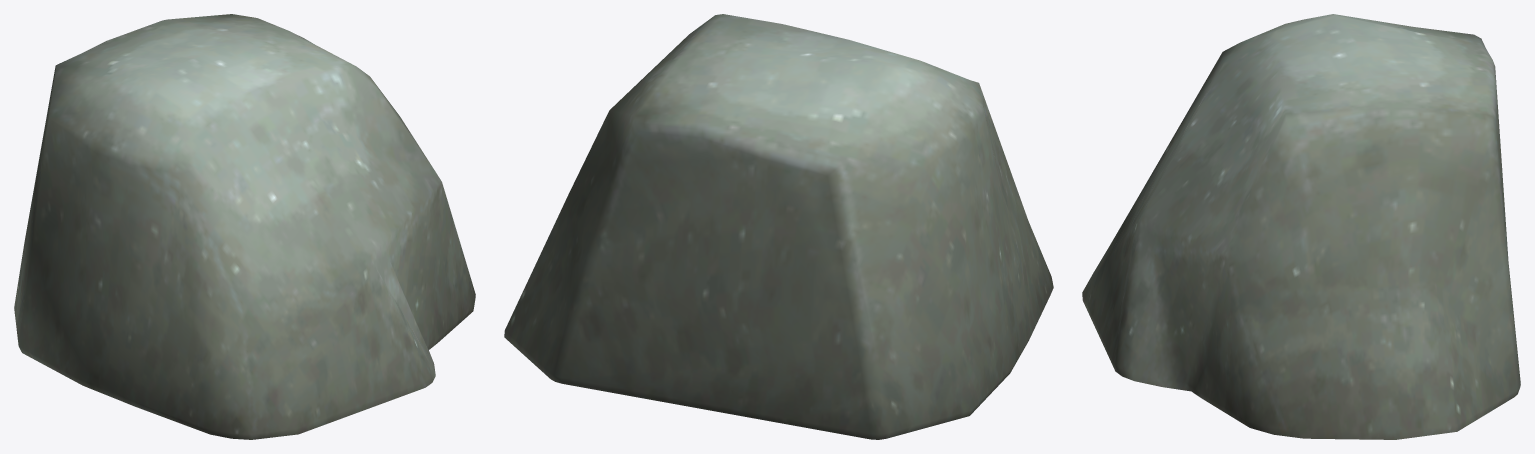
The model's file is stoneA.glb.
3 views of the same model, side by side, from view 1: azimuth 30°, elevation 25°; view 2: azimuth 150°, elevation 25°; view 3: azimuth 270°, elevation 25° (orthographic). The views are drawn at different scales.
Parts seen in each view (by area): view 1: stoneA__mStoneA; view 2: stoneA__mStoneA; view 3: stoneA__mStoneA.
Part boxes in pixels (x1,y1,x2,y2): stoneA__mStoneA: [14, 14, 475, 439]; stoneA__mStoneA: [504, 14, 1053, 439]; stoneA__mStoneA: [1082, 14, 1520, 439].
Bounding box in the file's own units: 9.58 × 6.09 × 8.8.
1 material, 1 textured.
